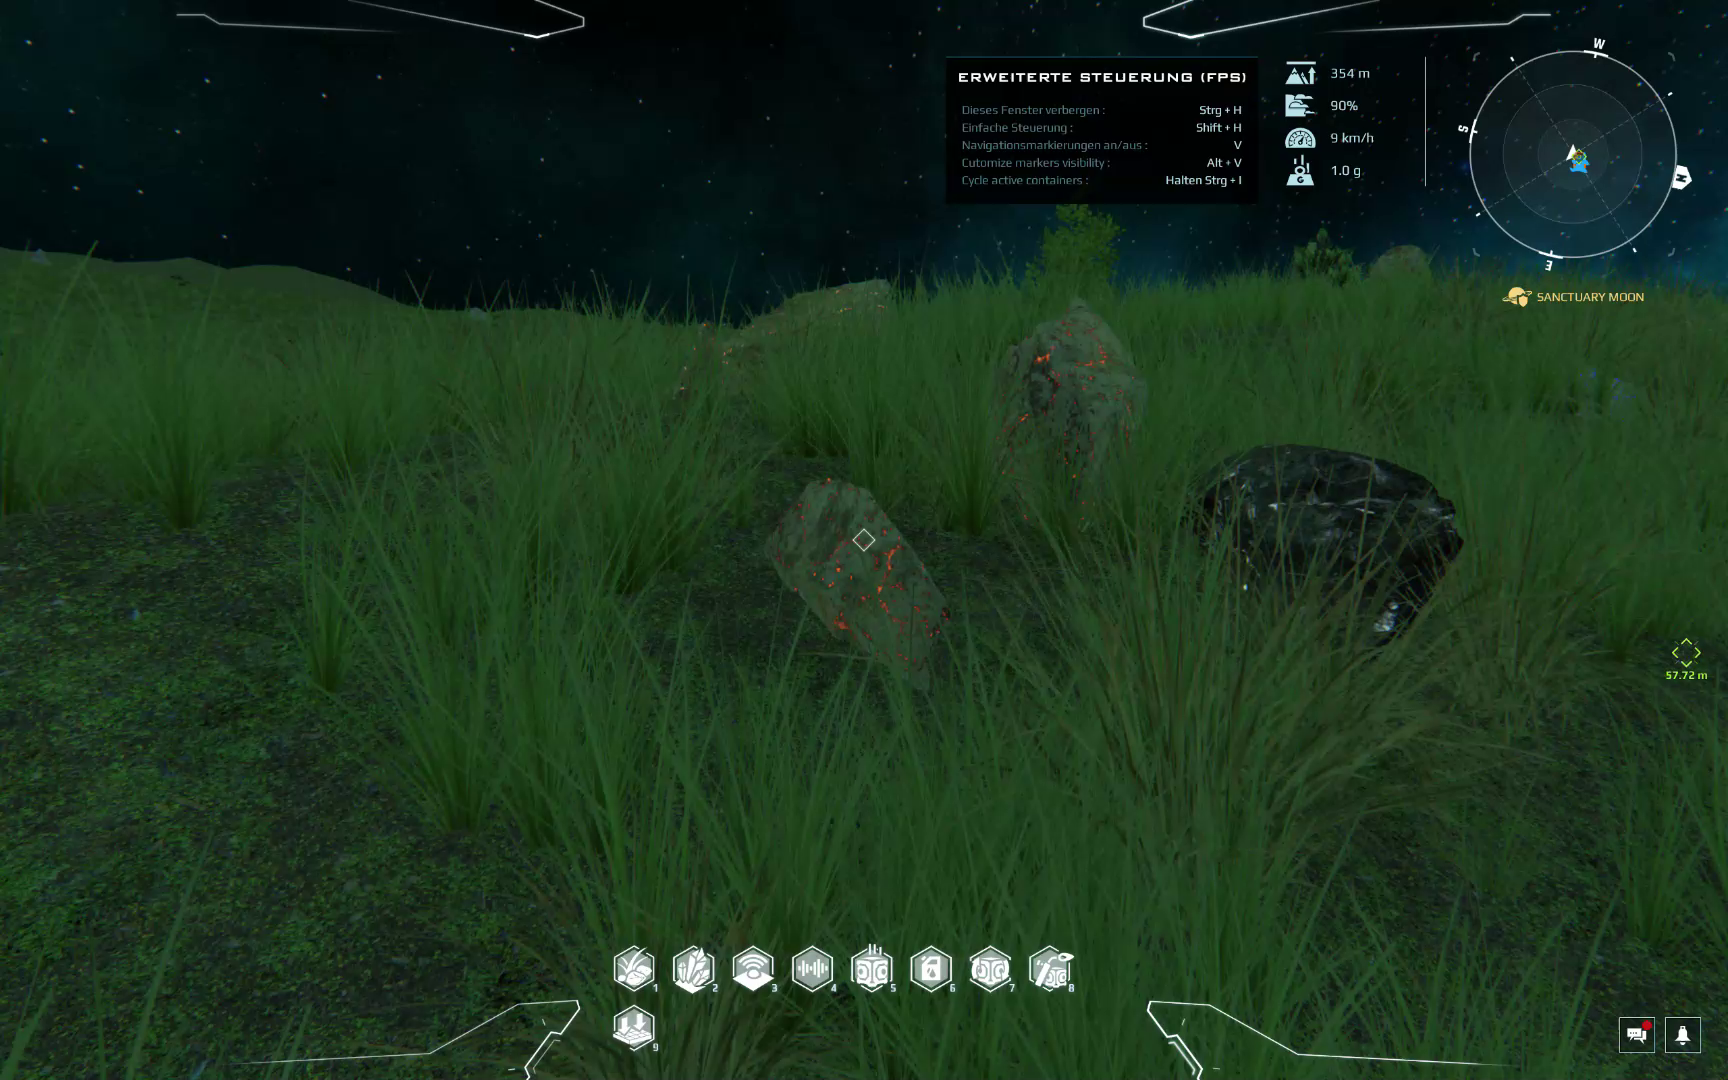Ore: (1191, 440, 1463, 653), (763, 473, 959, 702), (994, 309, 1147, 538), (729, 277, 893, 372), (663, 309, 722, 417)
